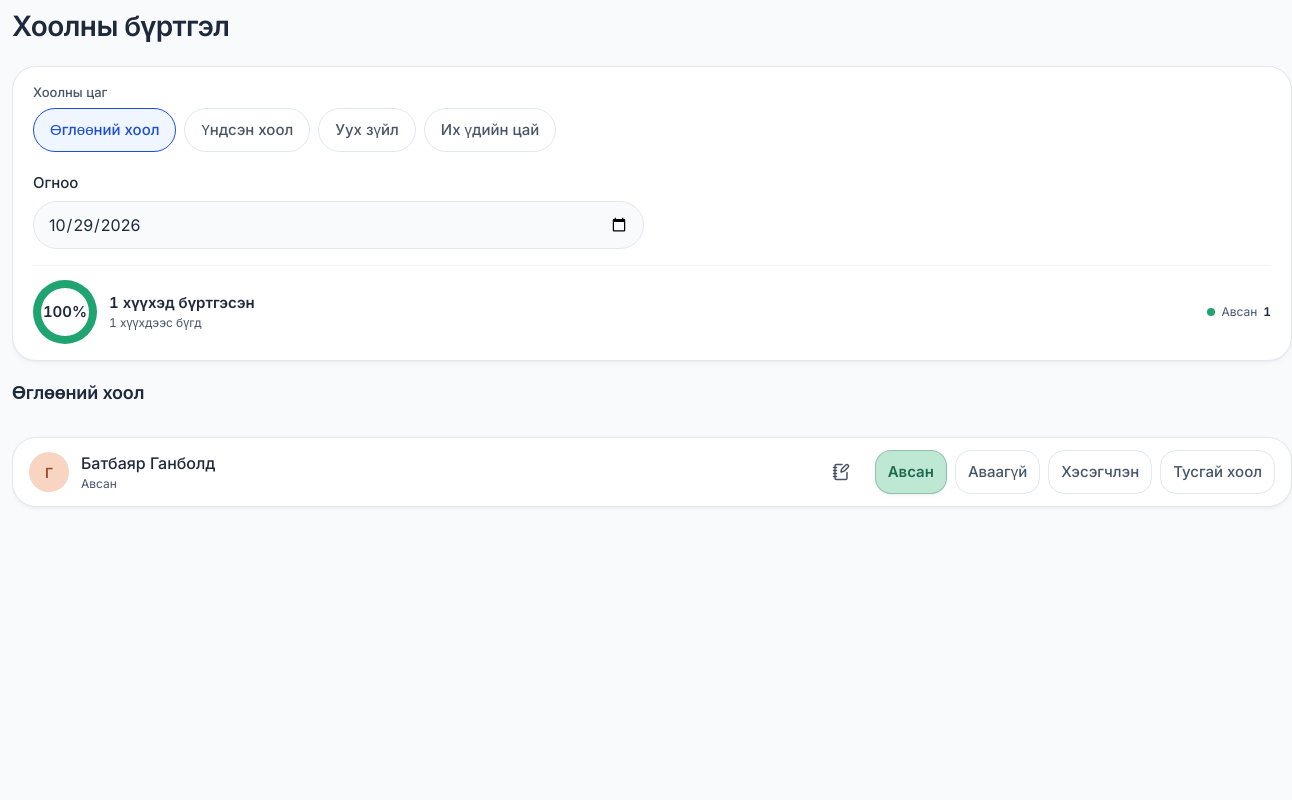
it: хадгалаагүй өөрчлөлт › discarding restores the saved state and sends nothing
expect the text "Батбаяр Ганболд" is shown: met, box [81, 453, 215, 473]
Step 1. Click the radio button labelled "Аваагүй" → (998, 472), box [955, 450, 1040, 494]
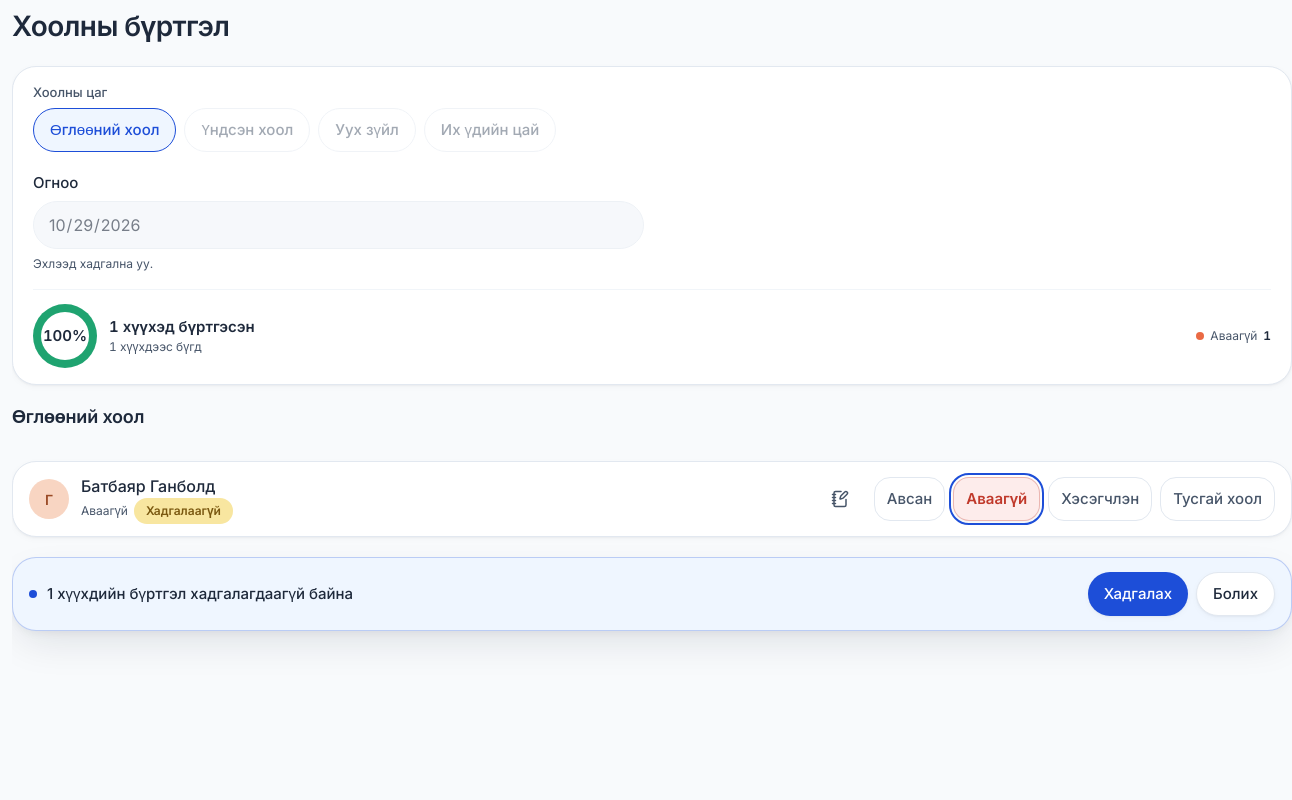
Step 2. Click the button "Болих" → (1236, 594), box [1196, 572, 1275, 616]
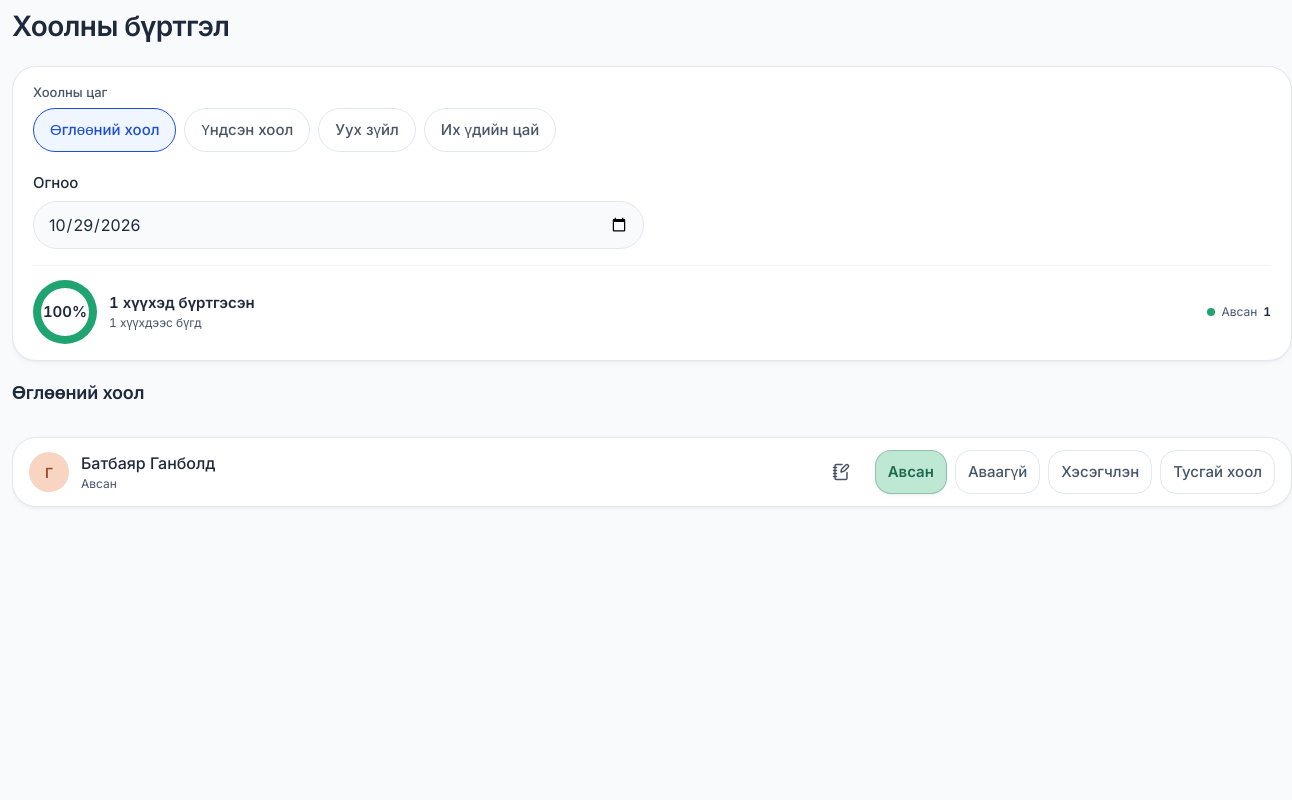
expect the radio button labelled "Авсан" is checked: met, box [875, 450, 947, 494]
expect the text "хадгалагдаагүй байна" is gone: met
